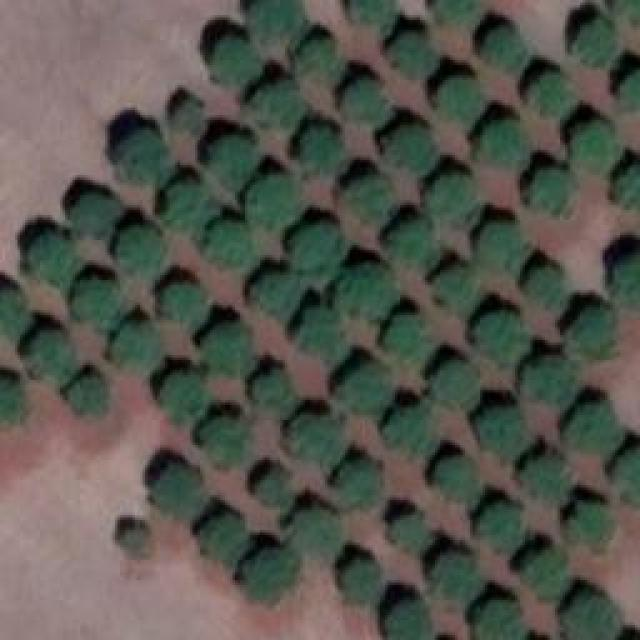Tree: (118, 125, 173, 190), (288, 215, 343, 278), (388, 393, 441, 458), (285, 408, 345, 463), (153, 462, 208, 520), (562, 405, 620, 460), (73, 268, 126, 328), (288, 38, 351, 88), (203, 313, 253, 376), (30, 327, 83, 385), (110, 310, 163, 368), (518, 158, 573, 213), (248, 173, 301, 228), (475, 118, 530, 171), (250, 78, 308, 128), (430, 447, 480, 505), (523, 540, 573, 598), (18, 230, 71, 283), (200, 220, 253, 273), (563, 305, 616, 358), (385, 28, 438, 81), (564, 587, 617, 640), (332, 360, 390, 408), (435, 73, 485, 128), (158, 360, 203, 420), (205, 35, 258, 85), (343, 170, 396, 220), (248, 0, 303, 48), (242, 543, 290, 598), (472, 300, 520, 355), (470, 595, 528, 640), (208, 132, 261, 180), (255, 270, 303, 323), (382, 120, 430, 173), (288, 505, 338, 555), (518, 453, 568, 503), (200, 410, 245, 465), (340, 267, 390, 315), (387, 213, 435, 263), (477, 220, 525, 270), (523, 355, 573, 403), (475, 500, 525, 548), (115, 220, 160, 273), (338, 455, 383, 508), (298, 308, 343, 361), (568, 498, 611, 551), (200, 513, 245, 563), (380, 313, 430, 358), (480, 400, 525, 450), (428, 548, 473, 598), (428, 168, 478, 213), (162, 173, 210, 218), (335, 555, 380, 603), (572, 20, 620, 65), (253, 365, 296, 415), (340, 80, 390, 123), (523, 70, 573, 113), (65, 375, 108, 423), (433, 350, 476, 398), (605, 240, 640, 298), (295, 123, 340, 168), (385, 597, 432, 640), (388, 510, 431, 555), (570, 118, 613, 163), (163, 272, 203, 320), (433, 265, 476, 308), (483, 25, 526, 68), (73, 188, 118, 228), (610, 447, 640, 505), (612, 155, 640, 213), (250, 465, 290, 505), (523, 263, 563, 303), (170, 95, 205, 140), (110, 520, 153, 555), (0, 280, 25, 333), (0, 378, 25, 431), (345, 0, 395, 25), (432, 0, 480, 20), (620, 63, 640, 108), (612, 0, 640, 18)
